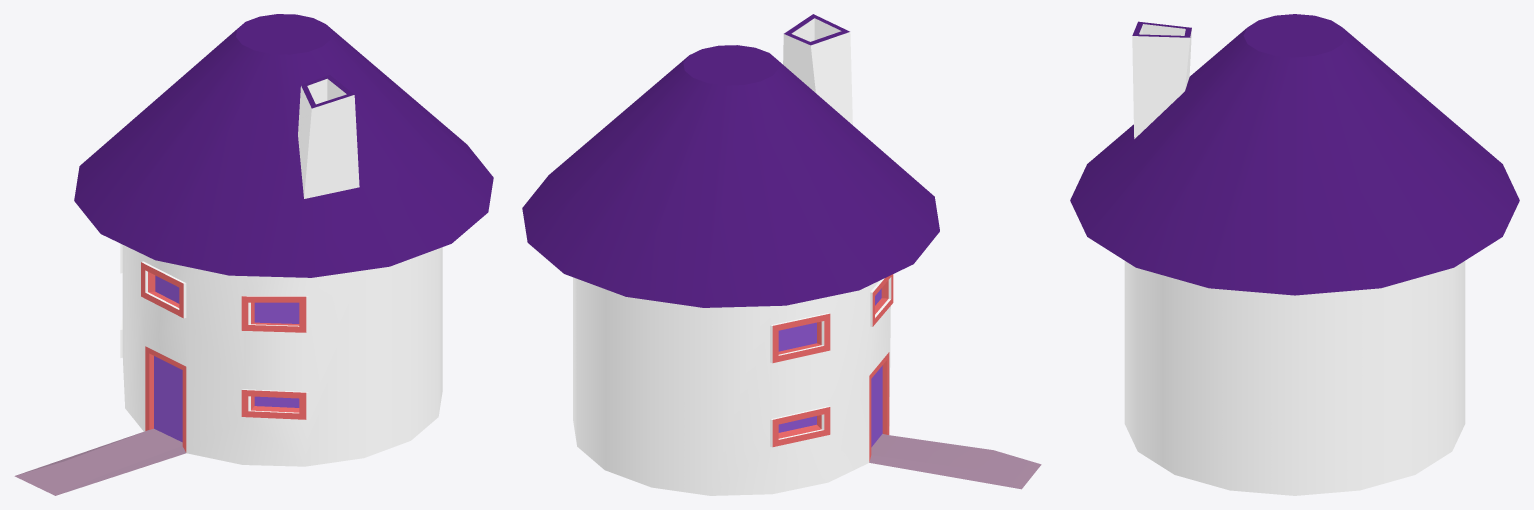
File: house2floors.glb
3 renders of one model, left to right at view 1: azimuth 30°, elevation 25°; view 2: azimuth 150°, elevation 25°; view 3: azimuth 270°, elevation 25°, orthographic. The views are drawn at different scales.
Parts seen in each view (by area): view 1: 2FloorHouse; view 2: 2FloorHouse; view 3: 2FloorHouse.
Part boxes in pixels (x1=…): 2FloorHouse: x1=14, y1=14, x2=493, y2=495; 2FloorHouse: x1=522, y1=14, x2=1041, y2=495; 2FloorHouse: x1=1070, y1=14, x2=1519, y2=495.
Size of the model in its own units: 11.44 by 8.6 by 9.03.
